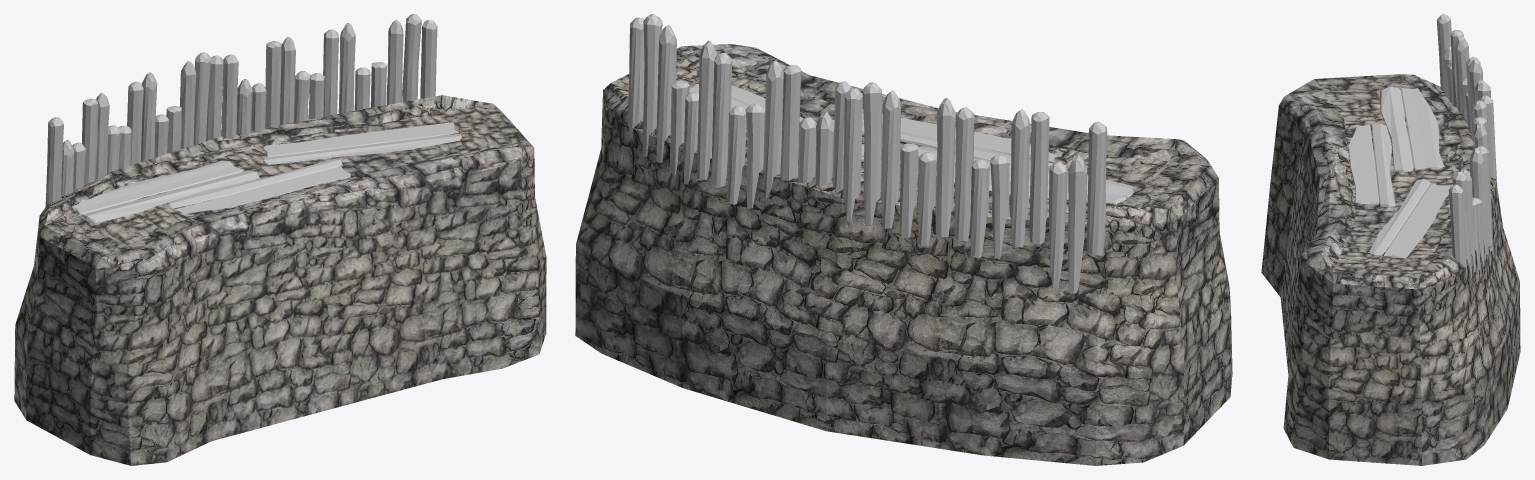
Rendered from StoneWall_2_LOD1.fbx.
3 renders of one model, left to right at view 1: azimuth 30°, elevation 25°; view 2: azimuth 150°, elevation 25°; view 3: azimuth 270°, elevation 25°, orthographic. The views are drawn at different scales.
Parts seen in each view (by area): view 1: Stone, Wood; view 2: Stone, Wood; view 3: Stone, Wood.
Boxes of the visible parts, left/top/right/bottom form: Stone: left=14, top=95, right=546, bottom=465; Wood: left=45, top=14, right=461, bottom=223; Stone: left=575, top=44, right=1232, bottom=465; Wood: left=627, top=14, right=1133, bottom=294; Stone: left=1261, top=74, right=1520, bottom=465; Wood: left=1349, top=14, right=1497, bottom=278.
Size of the model in its own units: 1473 by 729 by 809.
